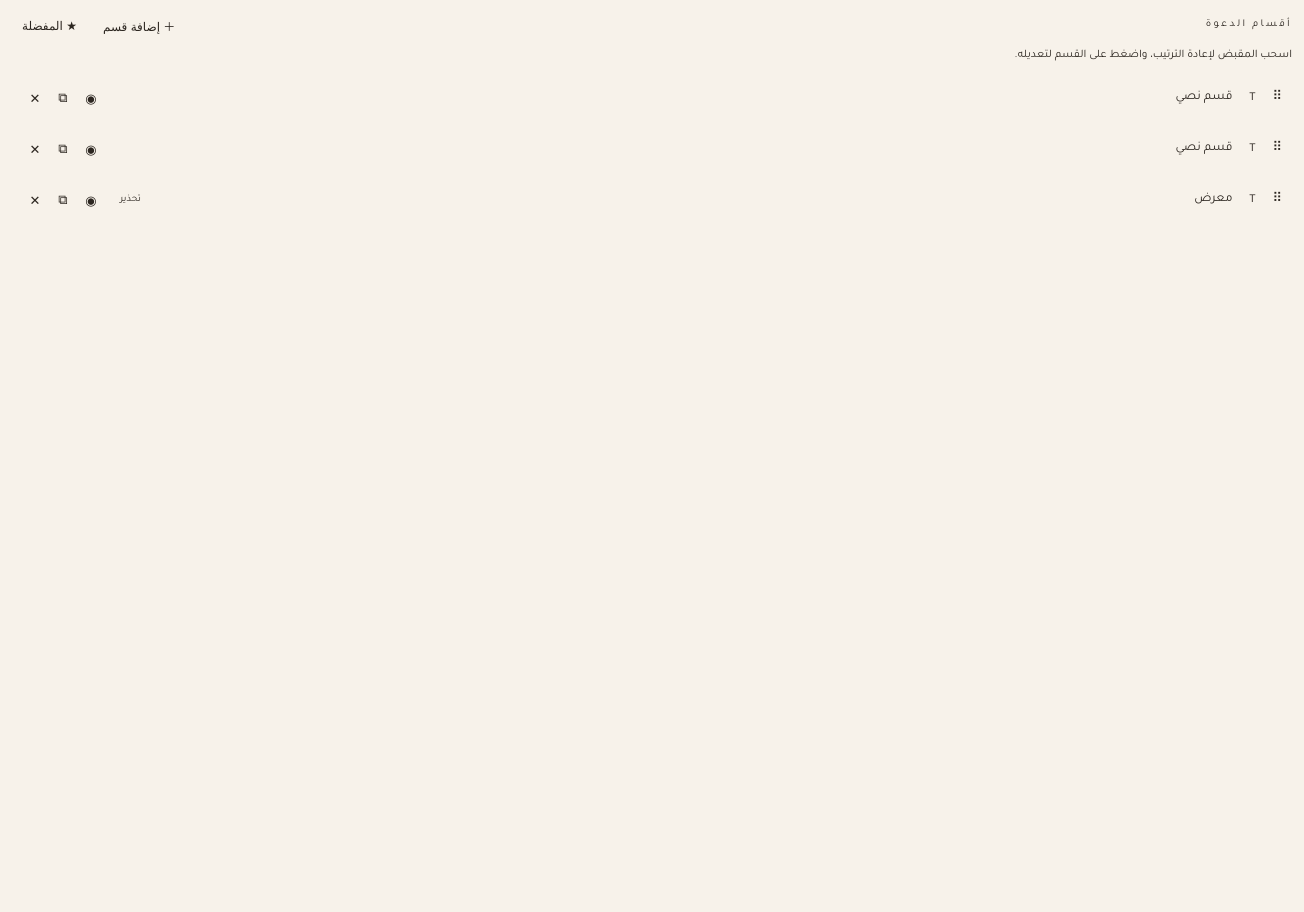
it: BlocksPanel › does not duplicate a singleton and says why
Click the button titled "تكرار القسم" next to "تحذير" at (63, 200), box [50,187,76,213]
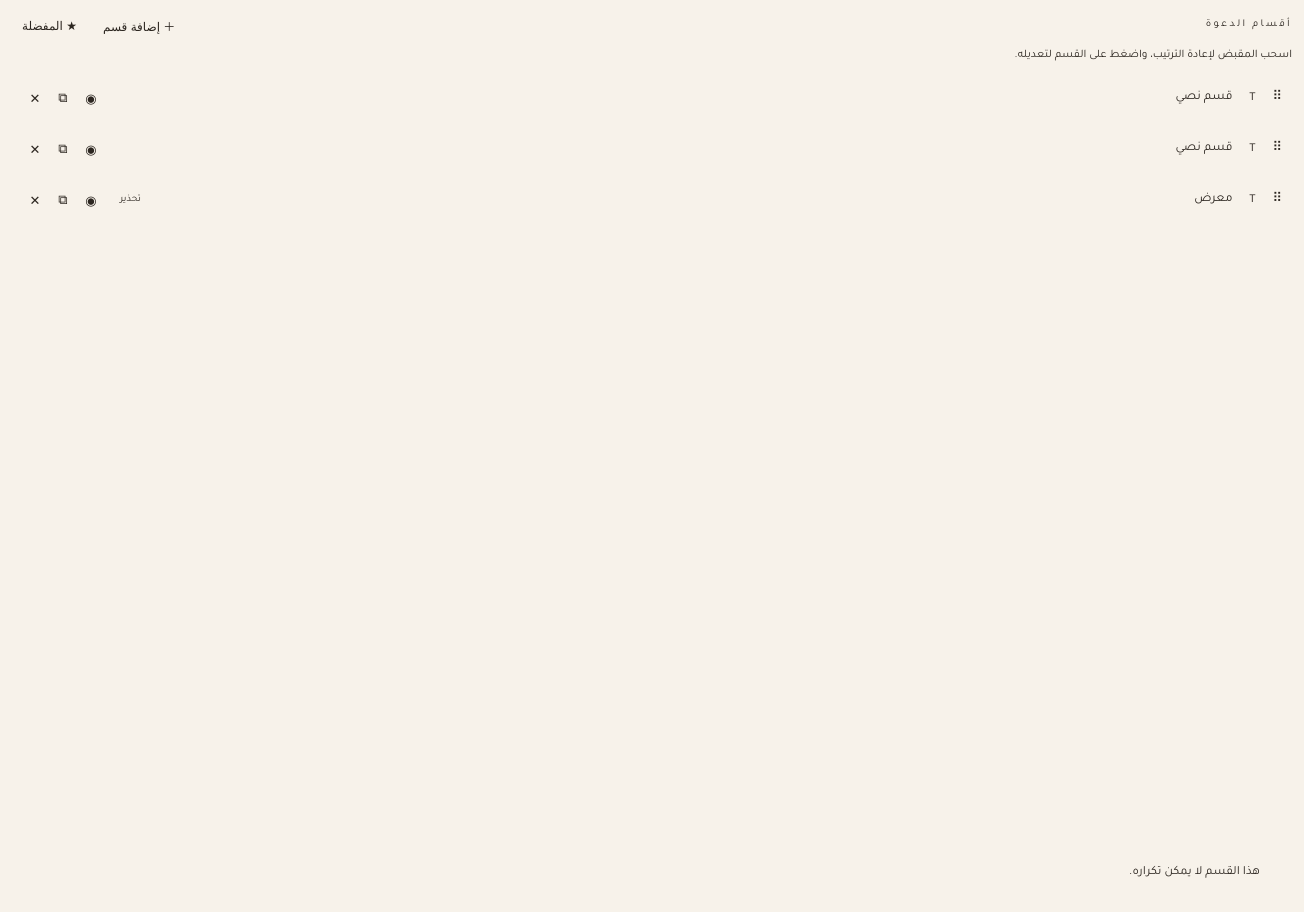
Result: the text "هذا القسم لا يمكن تكراره." is shown at [1129,866,1260,878]
